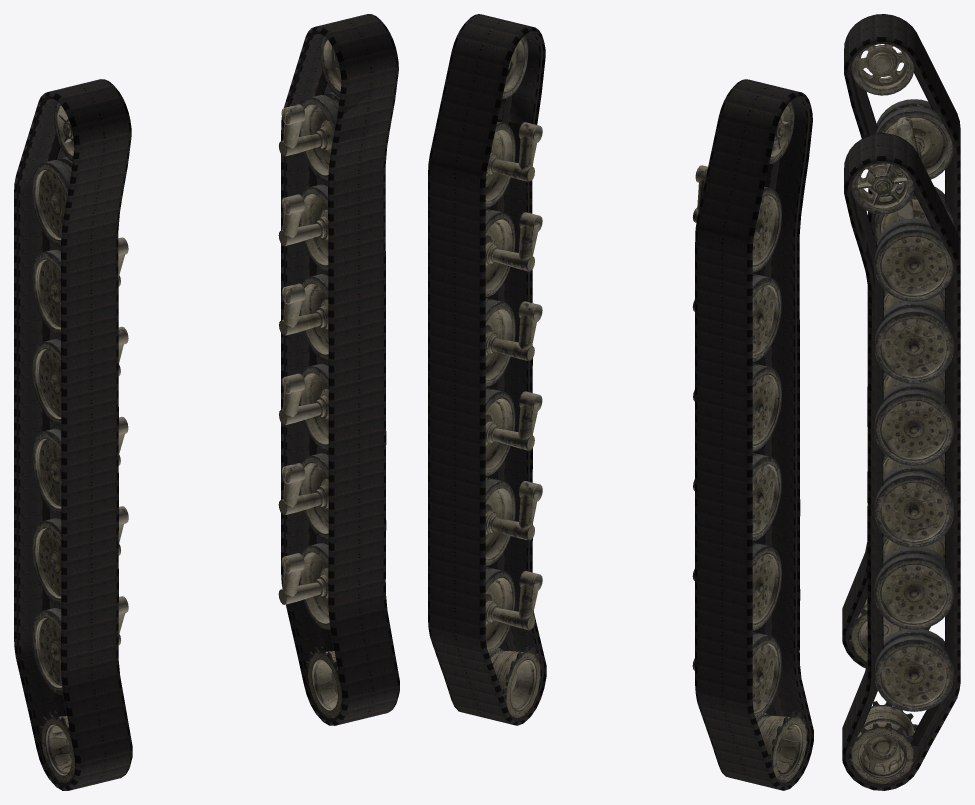
File: Chassis.glb
3 renders of one model, left to right at view 1: azimuth 30°, elevation 25°; view 2: azimuth 150°, elevation 25°; view 3: azimuth 270°, elevation 25°, orthographic. The views are drawn at different scales.
Visible parts, largest first — view 1: set_1_group_0, set_0_group_0, set_3_group_0, set_2_group_0; view 2: set_1_group_0, set_0_group_0, set_3_group_0, set_2_group_0; view 3: set_3_group_0, set_0_group_0, set_2_group_0, set_1_group_0.
Boxes of the visible parts, left/top/right/bottom form: set_1_group_0: left=14, top=79, right=132, bottom=790; set_0_group_0: left=281, top=14, right=399, bottom=725; set_3_group_0: left=278, top=36, right=342, bottom=718; set_2_group_0: left=32, top=101, right=128, bottom=783; set_1_group_0: left=695, top=79, right=813, bottom=790; set_0_group_0: left=428, top=14, right=546, bottom=725; set_3_group_0: left=485, top=36, right=542, bottom=718; set_2_group_0: left=692, top=101, right=808, bottom=783; set_3_group_0: left=849, top=162, right=953, bottom=784; set_0_group_0: left=842, top=133, right=960, bottom=790; set_2_group_0: left=849, top=43, right=953, bottom=661; set_1_group_0: left=842, top=14, right=960, bottom=667.
Bounding box in the file's own units: 3.41 × 6.96 × 1.18.
4 materials, 4 textured.
